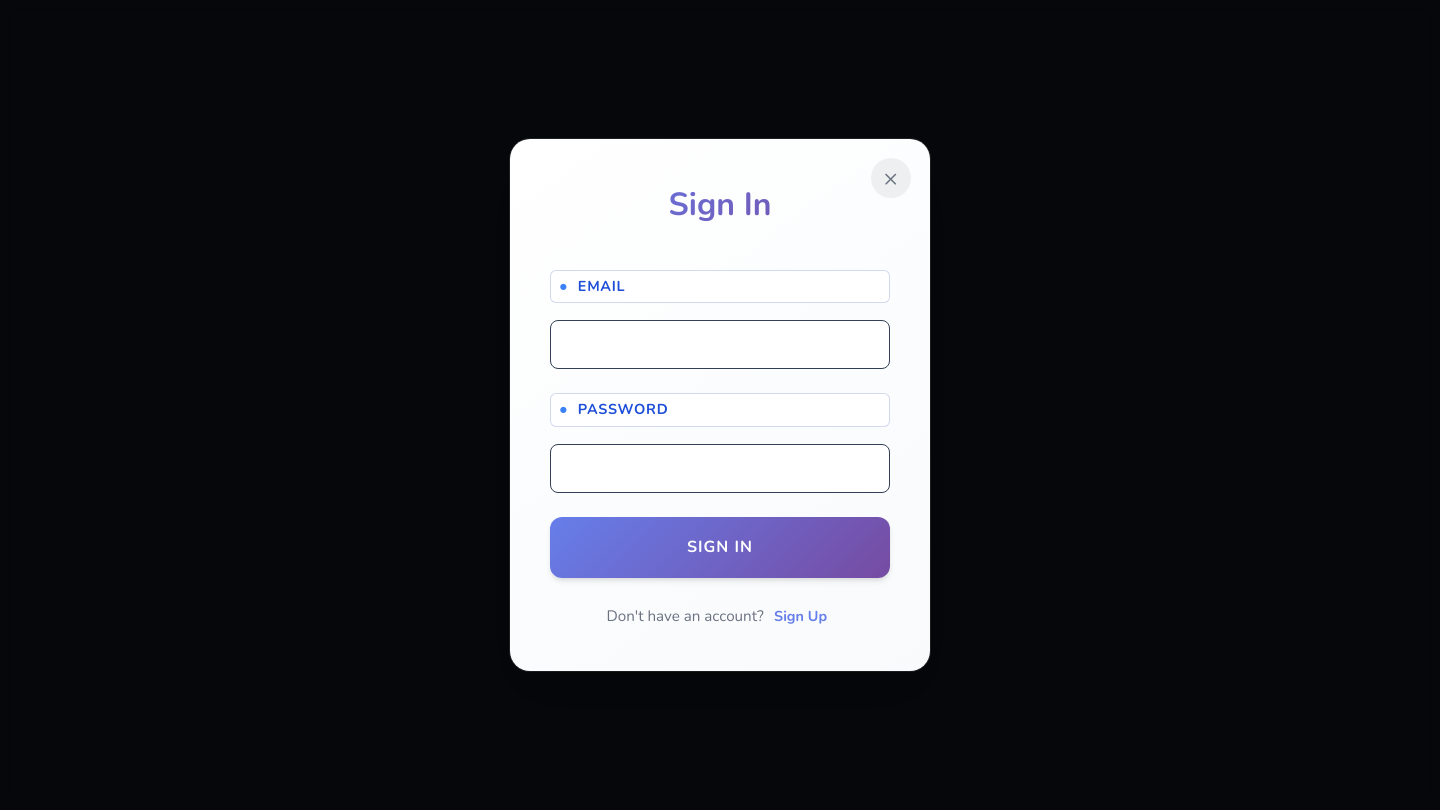
Scenario: AuthModal Component › Form Submission - Login › handles login error
# Fill in form
In the field labelled "Email": (720, 345) [550,320,890,370], type "test@example.com"
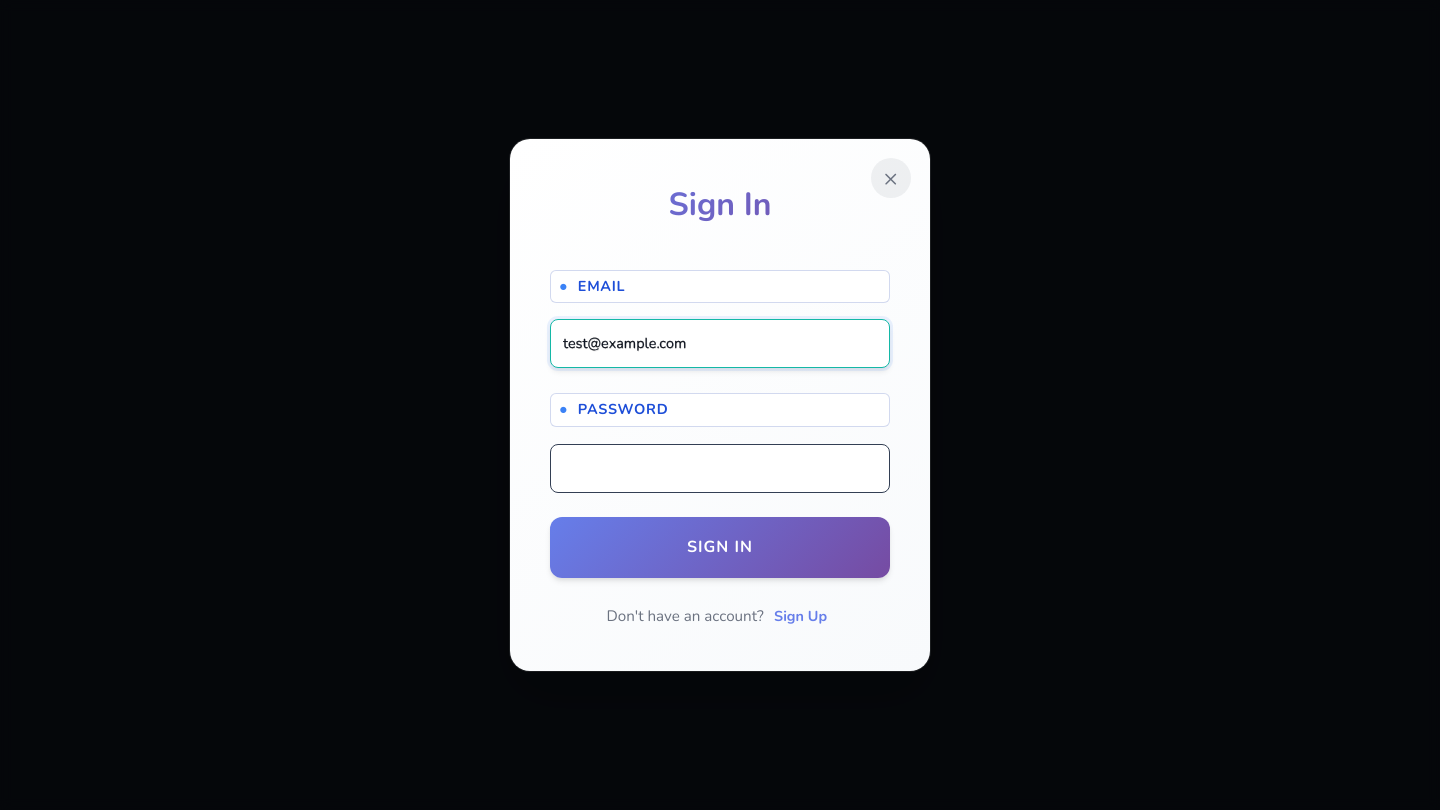
In the password field labelled "Password": (720, 469) [550,444,890,493], type "WrongPassword123!"
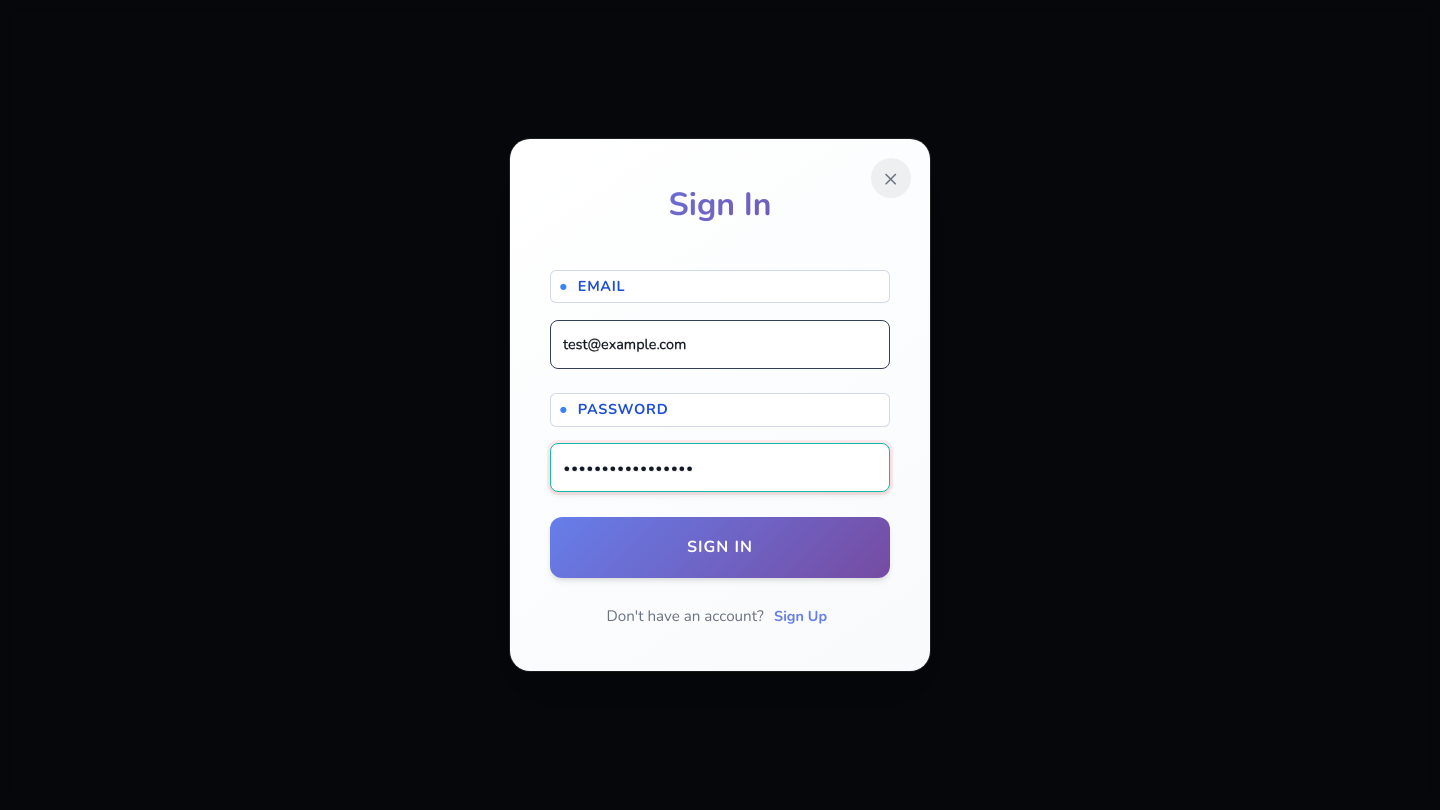
# Submit form
Click the button "Sign In": (720, 548) [550,517,890,578]
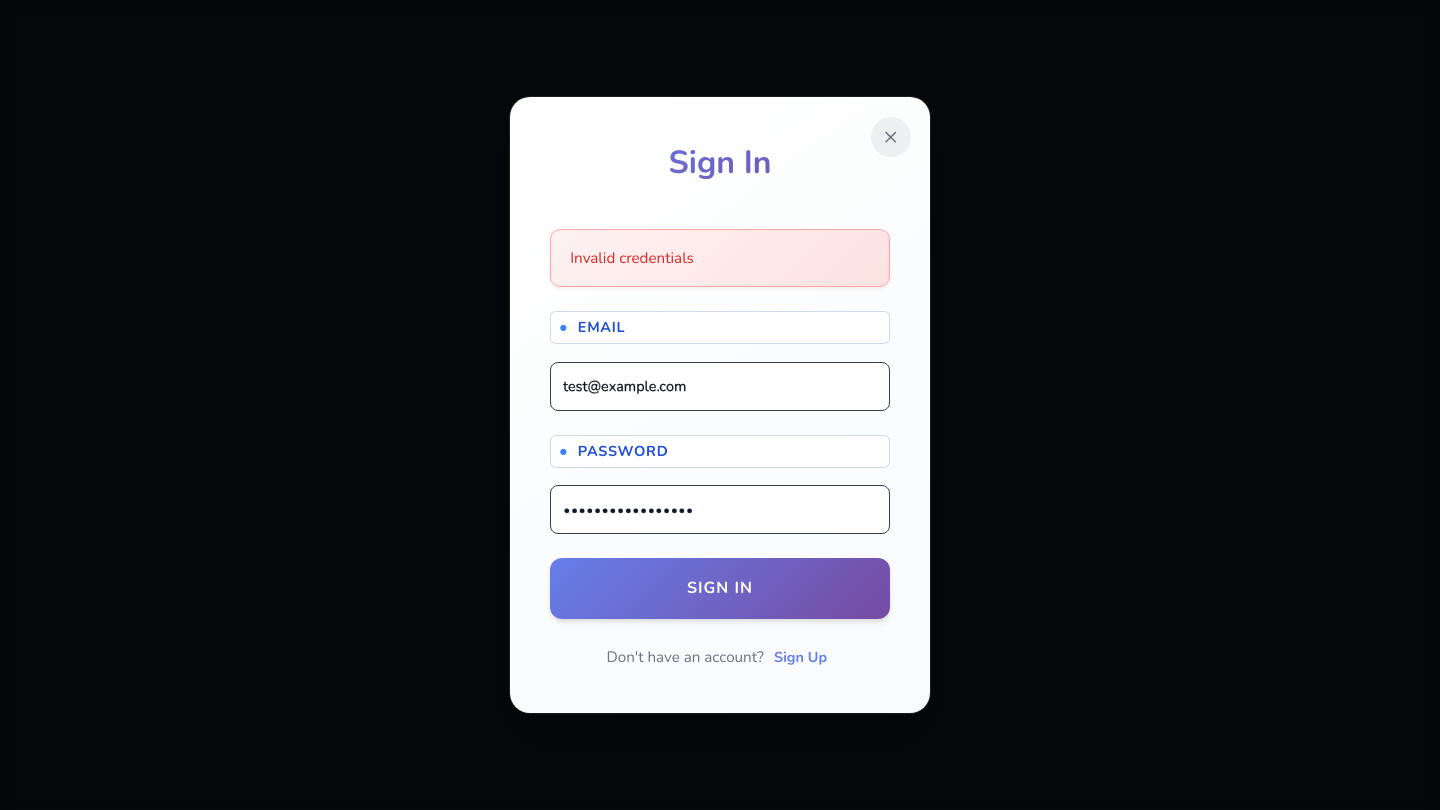
Check: the text "Invalid credentials" is shown, box [550,229,890,287]
